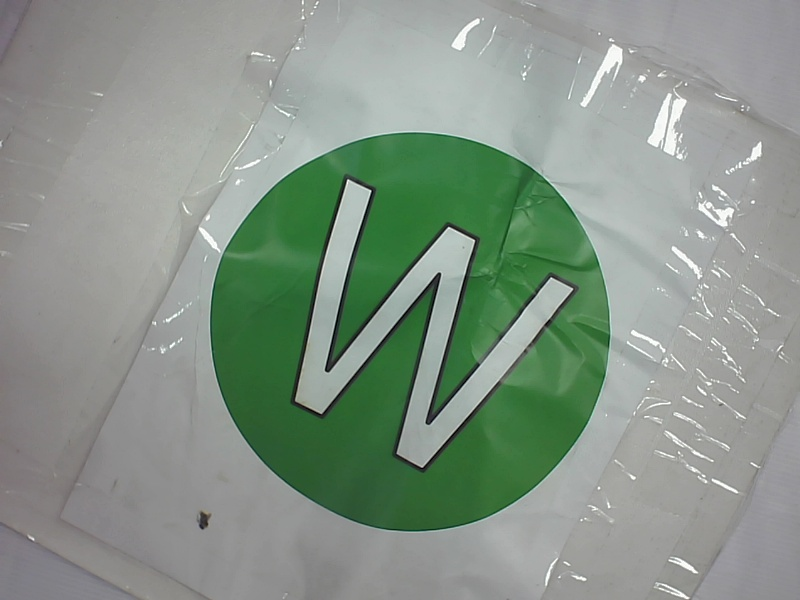areaB: (198, 125, 624, 542)
